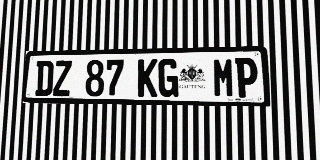7: (104, 59, 124, 97)
8: (85, 60, 105, 96)
D: (35, 61, 54, 96)
G: (158, 59, 178, 97)
K: (137, 59, 158, 97)
M: (213, 58, 235, 98)
P: (235, 57, 258, 98)
Z: (53, 60, 72, 96)
